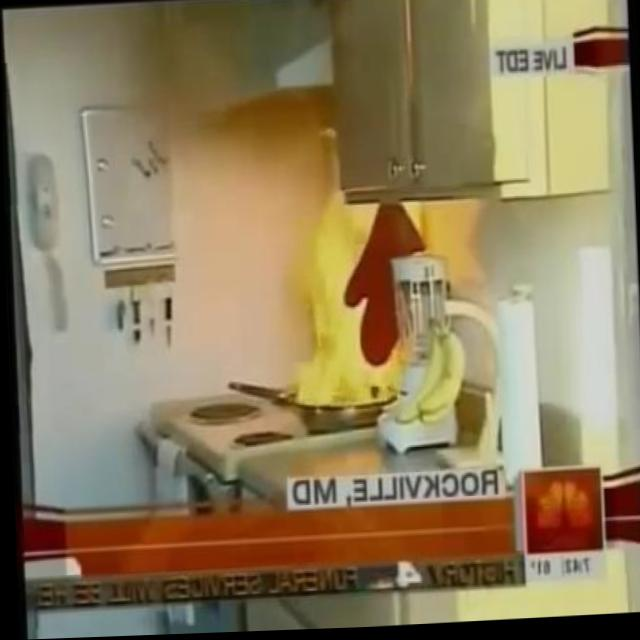fire: (285, 202, 397, 427)
